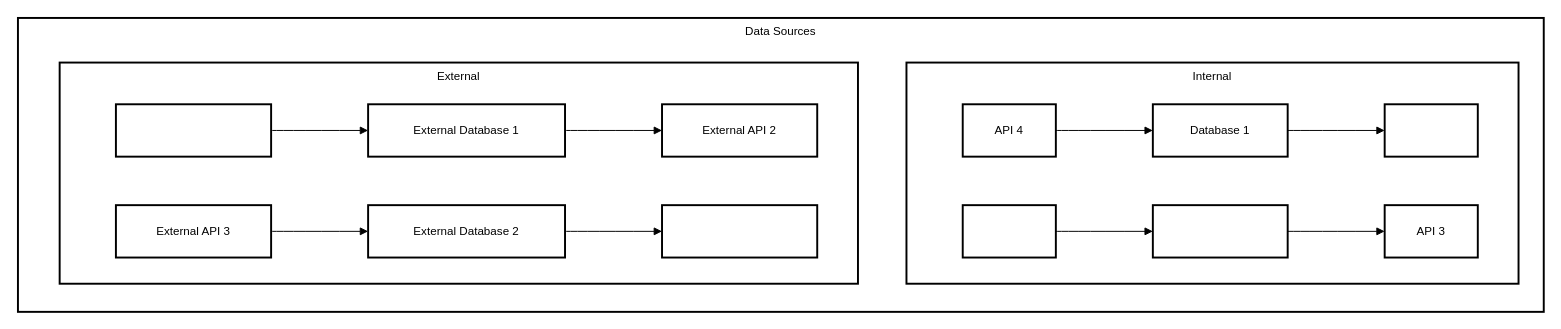
The diagram is 1561 pixels wide and 329 high, and some of its shapes have lost their labels. The shapes that lost their labels are listed below. From the top down, each one's box as (x1, y1, x2, y2) in pixels, then its label:
(114, 103, 272, 157): External API 1
(1383, 103, 1478, 157): API 1
(661, 204, 818, 258): External API 4
(961, 204, 1056, 258): API 2
(1151, 204, 1288, 258): Database 2
